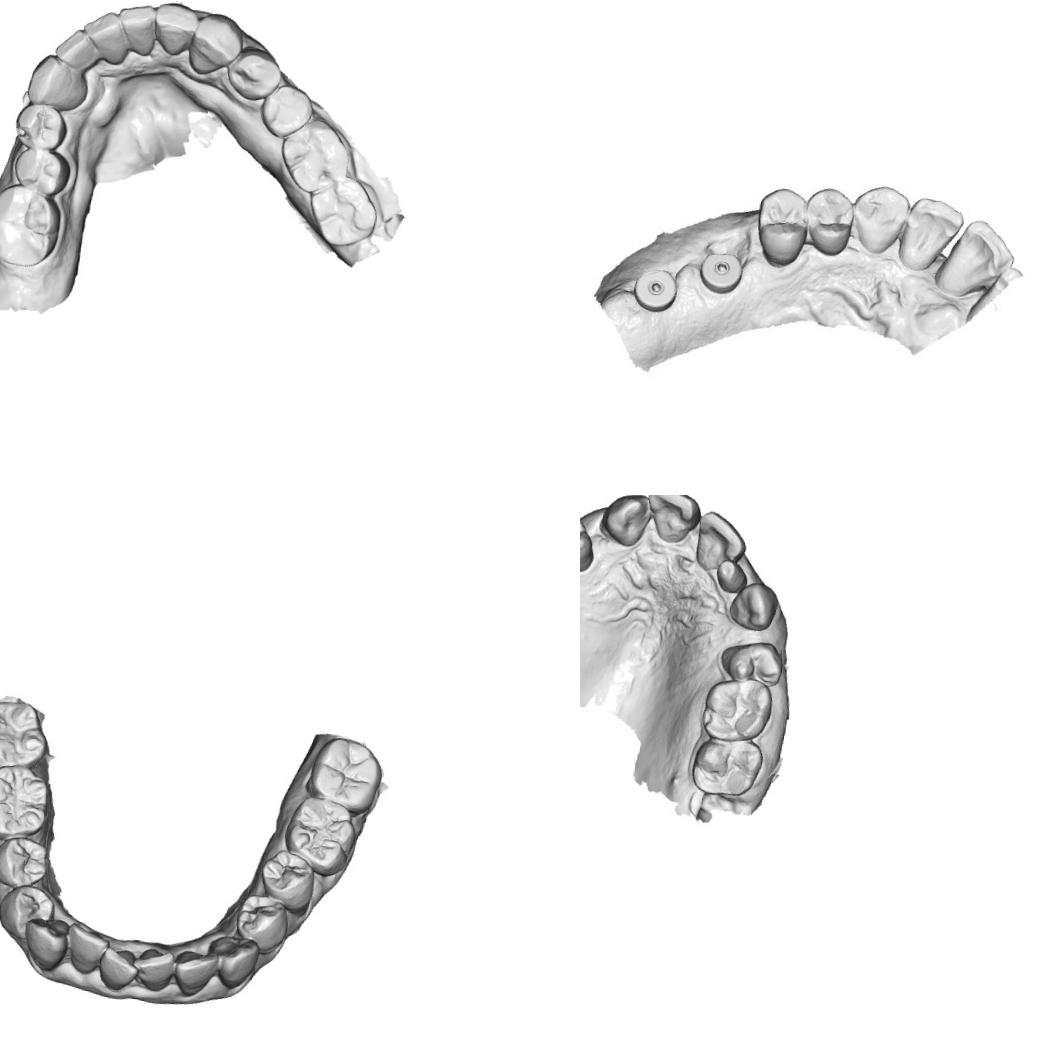canine: (846, 184, 912, 258), (186, 10, 246, 81), (203, 933, 262, 992), (20, 914, 72, 974), (727, 578, 782, 634), (600, 495, 650, 548)
crown: (713, 558, 750, 596)
implant: (635, 265, 679, 318), (702, 250, 744, 298)
incisor: (936, 216, 1022, 294), (899, 195, 958, 270), (24, 52, 91, 112), (694, 508, 750, 574), (76, 6, 134, 66), (151, 0, 202, 61), (643, 495, 704, 546), (63, 920, 112, 978), (115, 0, 161, 60), (50, 25, 102, 78), (170, 947, 220, 1001), (130, 944, 177, 994), (95, 944, 142, 994)
molar: (302, 732, 386, 820), (300, 169, 384, 255), (274, 114, 358, 200), (280, 792, 361, 878), (0, 179, 64, 271), (699, 672, 775, 746), (688, 734, 766, 800), (0, 697, 53, 783), (0, 759, 53, 845)
premolar: (756, 181, 815, 266), (256, 846, 317, 918), (802, 184, 856, 260), (232, 892, 292, 957), (256, 80, 316, 141), (223, 45, 284, 105), (0, 880, 58, 943), (10, 145, 75, 198), (718, 637, 786, 687), (12, 100, 70, 152), (0, 832, 51, 891), (580, 509, 598, 575)
